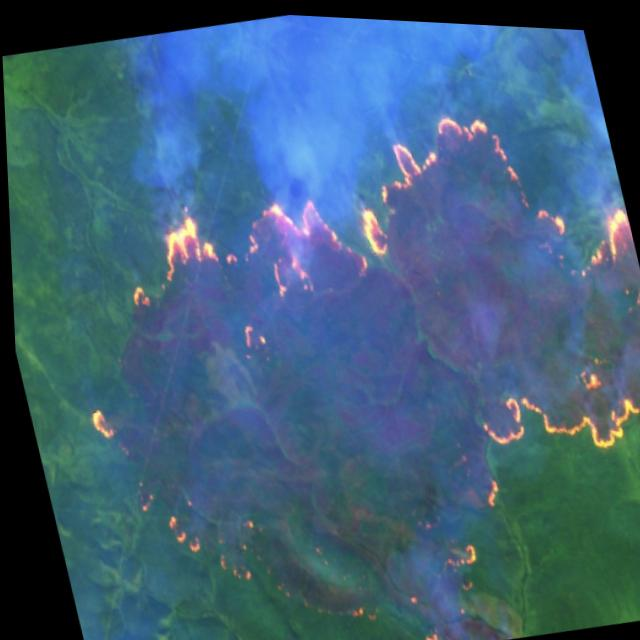fire: (332, 85, 542, 293), (99, 174, 383, 322), (375, 463, 540, 640), (454, 331, 640, 468), (117, 452, 274, 608), (568, 203, 640, 303), (326, 549, 388, 632), (78, 395, 124, 453), (530, 190, 573, 248)
